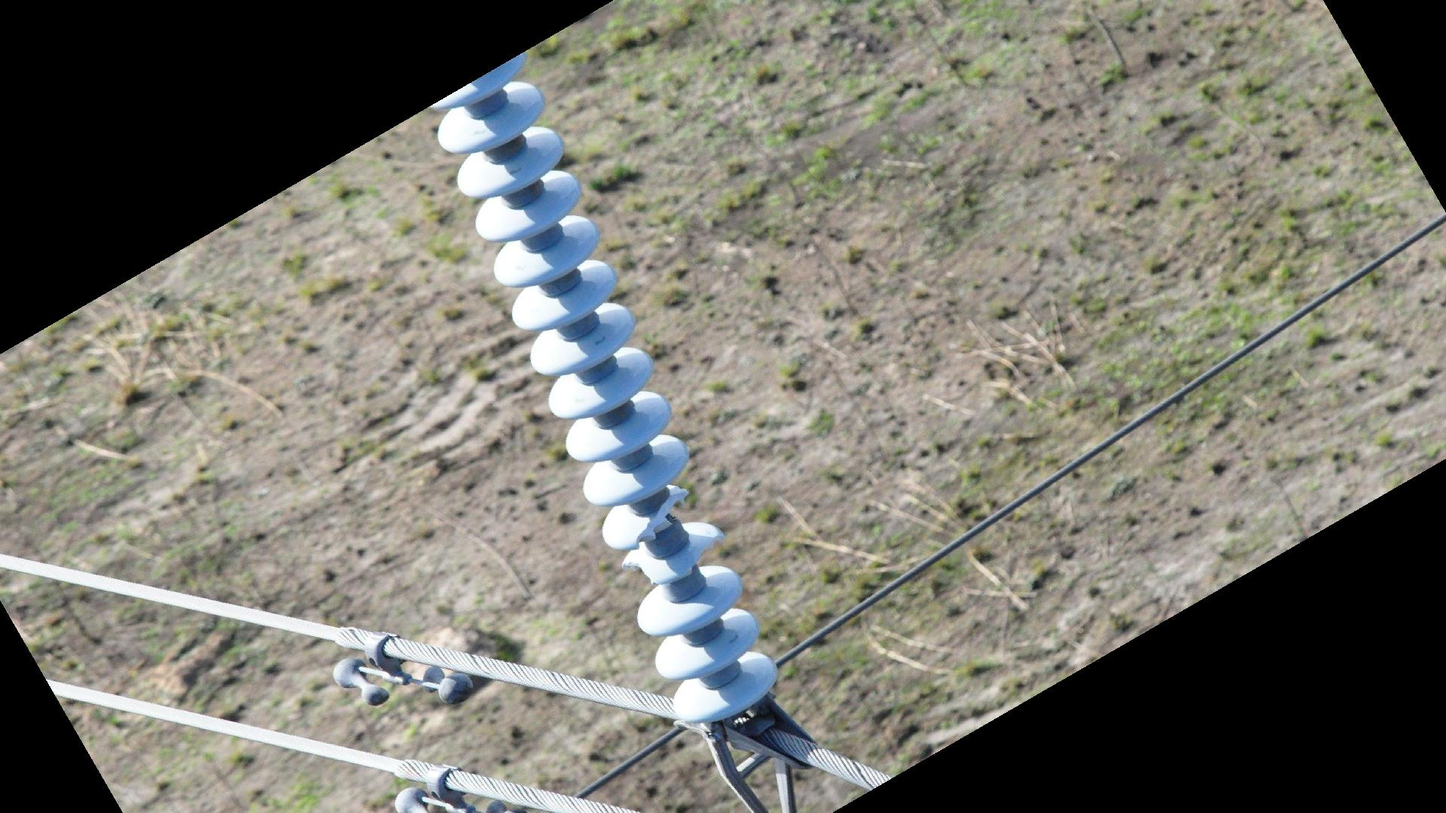insulator: (424, 45, 783, 731)
insulator_breakage: (630, 483, 691, 551), (675, 527, 728, 581), (618, 557, 660, 589)
